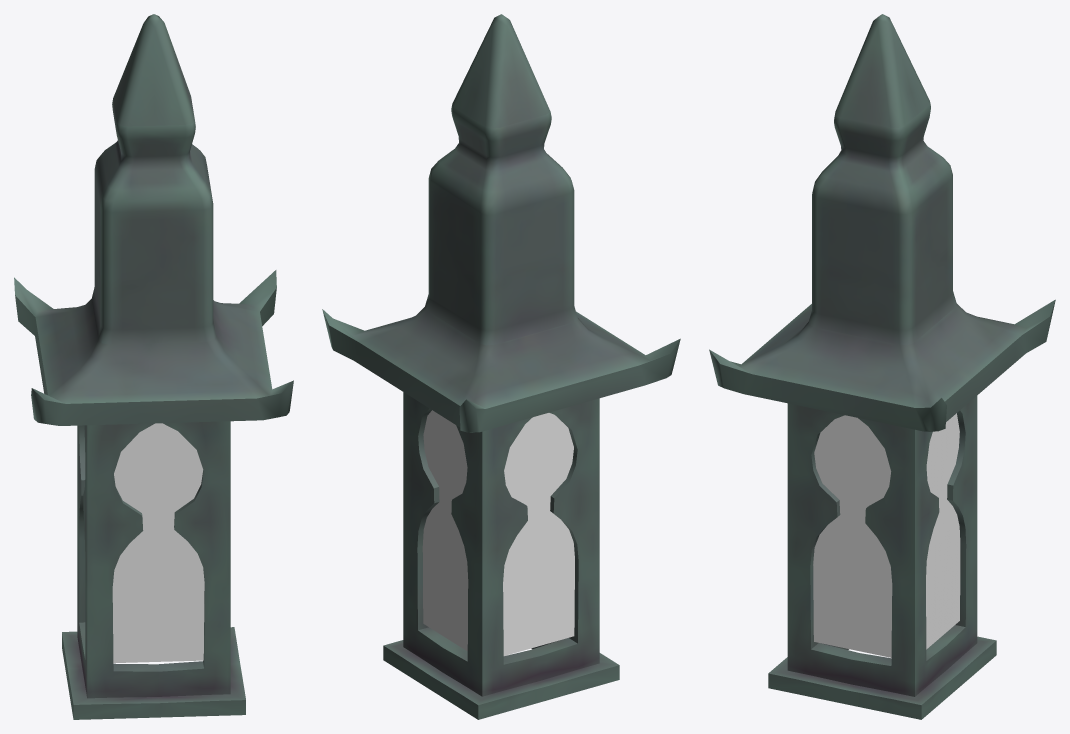
The model's file is LANTERN.fbx.
3 views of the same model, side by side, from view 1: azimuth 30°, elevation 25°; view 2: azimuth 150°, elevation 25°; view 3: azimuth 270°, elevation 25° (orthographic).
Visible parts, largest first — view 1: MeshBaker_mesh_mesh; view 2: MeshBaker_mesh_mesh; view 3: MeshBaker_mesh_mesh.
Part boxes in pixels (left/top/right/bottom): MeshBaker_mesh_mesh: left=14, top=14, right=293, bottom=719; MeshBaker_mesh_mesh: left=322, top=14, right=680, bottom=719; MeshBaker_mesh_mesh: left=709, top=14, right=1055, bottom=719.
Size of the model in its own units: 157 by 328 by 157.
1 material, 1 textured.
